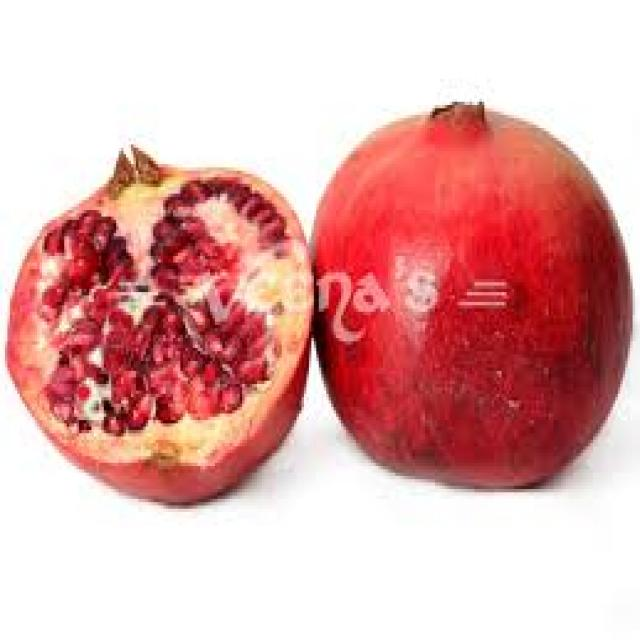organic waste: (306, 102, 632, 486), (2, 145, 312, 502)
